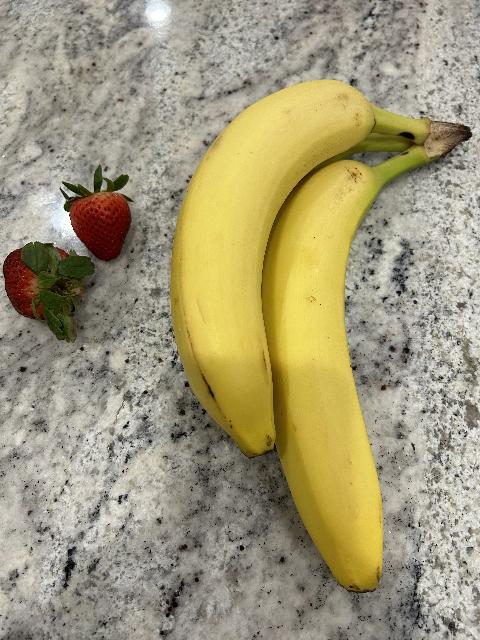Bananas: (172, 79, 474, 594)
Strawberries: (3, 237, 95, 343), (60, 164, 136, 260)
